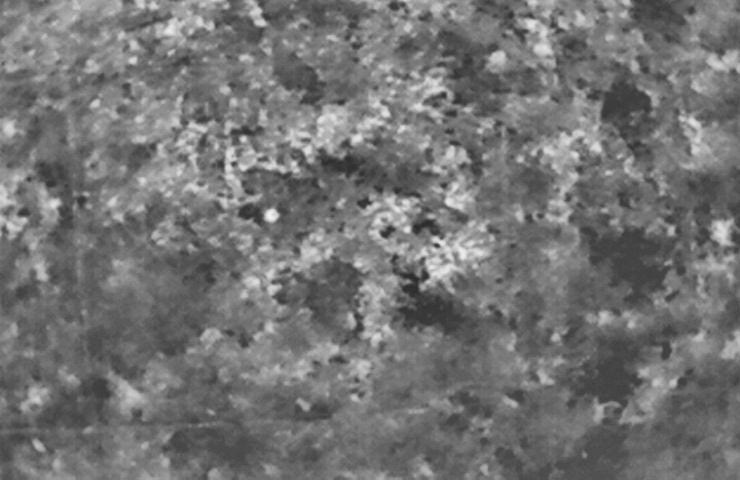landmines: (263, 206, 284, 225)
